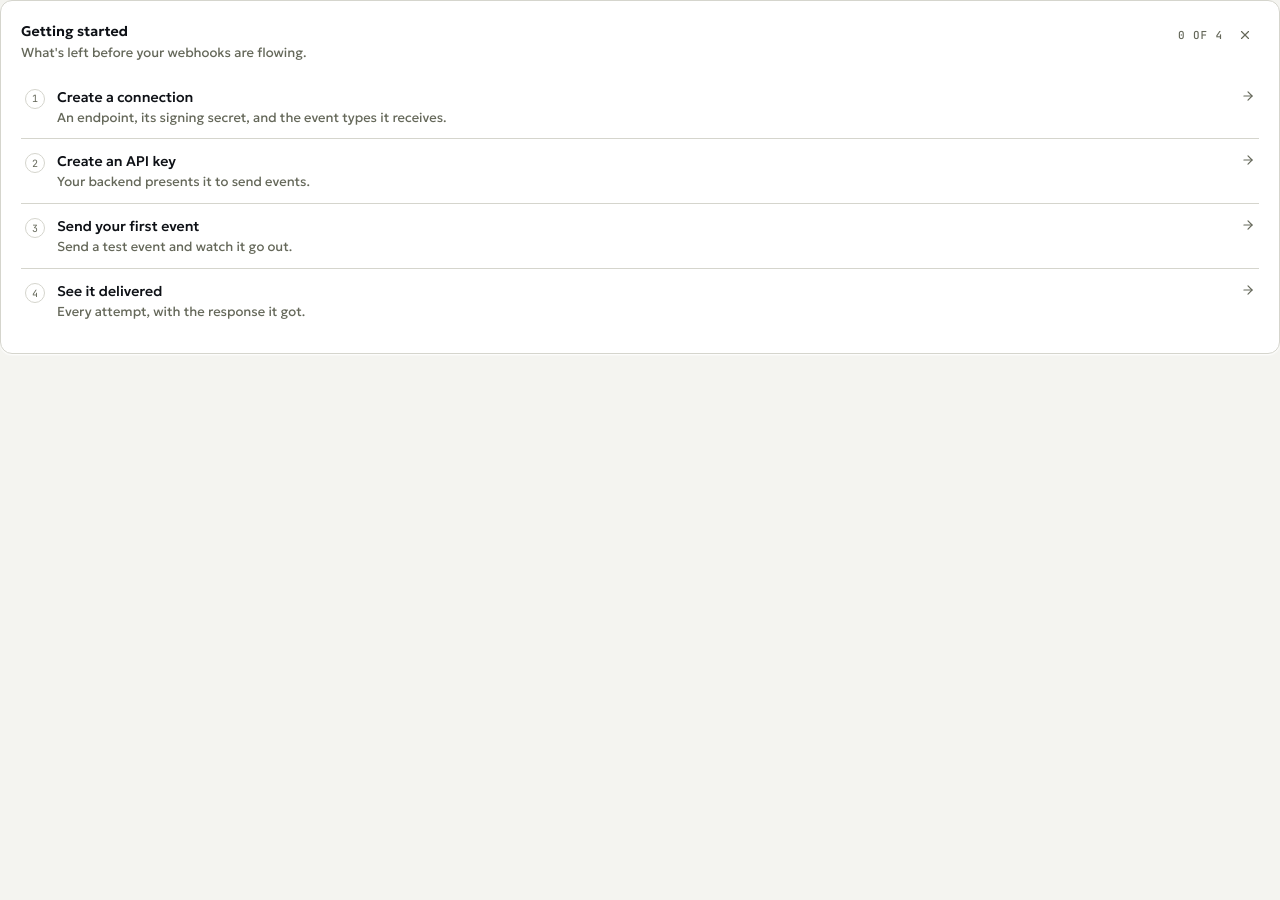
it: GettingStarted › opens the connection wizard in place instead of navigating away
This screenshot has width=1280, height=900.
Click the button "Create a connection". click: (125, 96)
box: x1=21 y1=74 x2=1259 y2=138
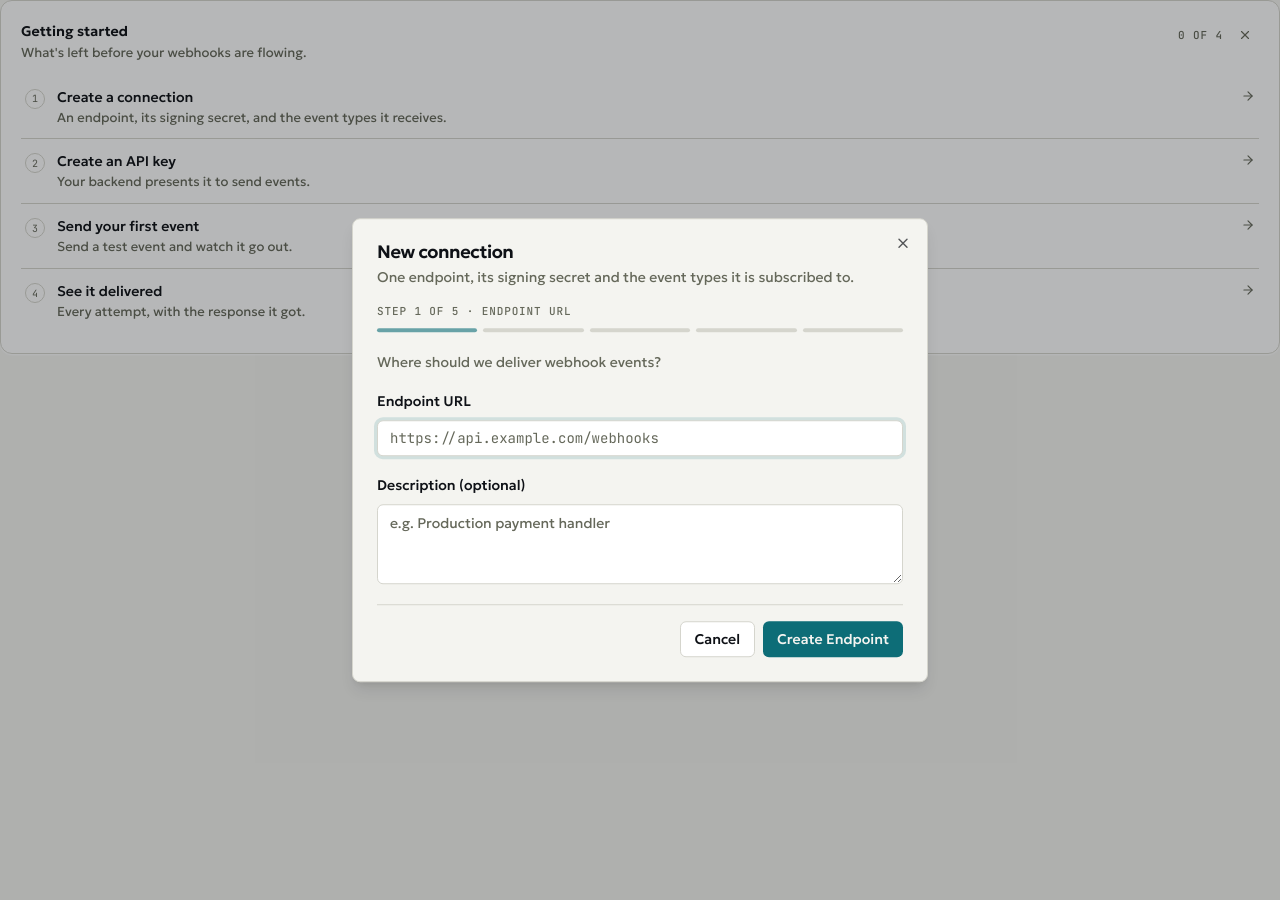
Expected: the dialog is shown, x1=352 y1=218 x2=928 y2=682
